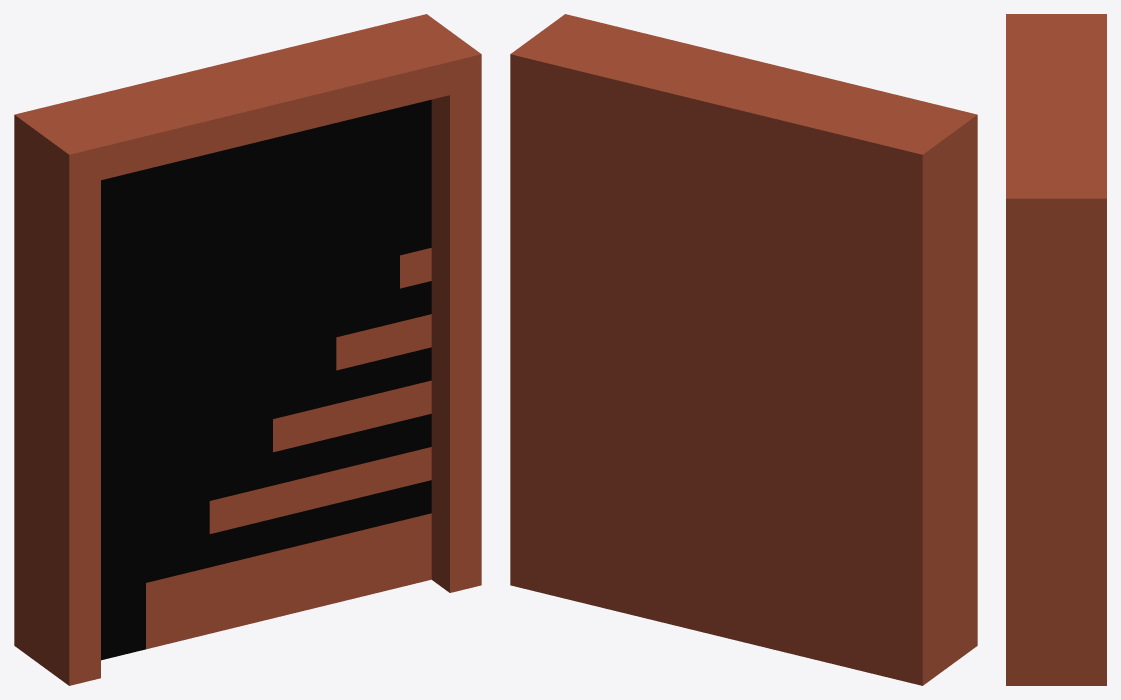
The model's file is dungeon_b_b_entrance_b.obj.
3 views of the same model, side by side, from view 1: azimuth 30°, elevation 25°; view 2: azimuth 150°, elevation 25°; view 3: azimuth 270°, elevation 25° (orthographic). The views are drawn at different scales.
Size of the model in its own units: 1.3 by 1.6 by 0.3.
1 material, 1 textured.
